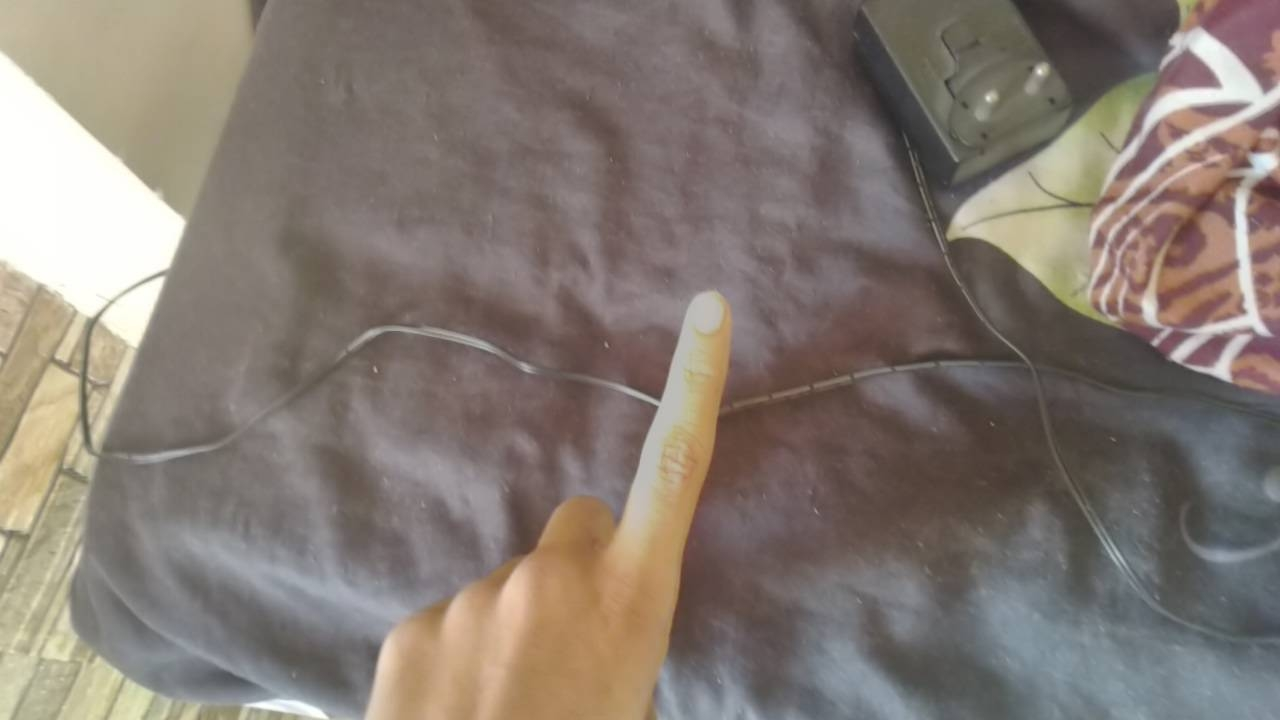fingertip: (674, 282, 738, 346)
